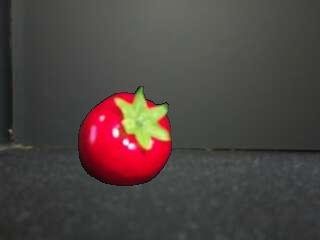Tomato: (77, 86, 172, 188)
